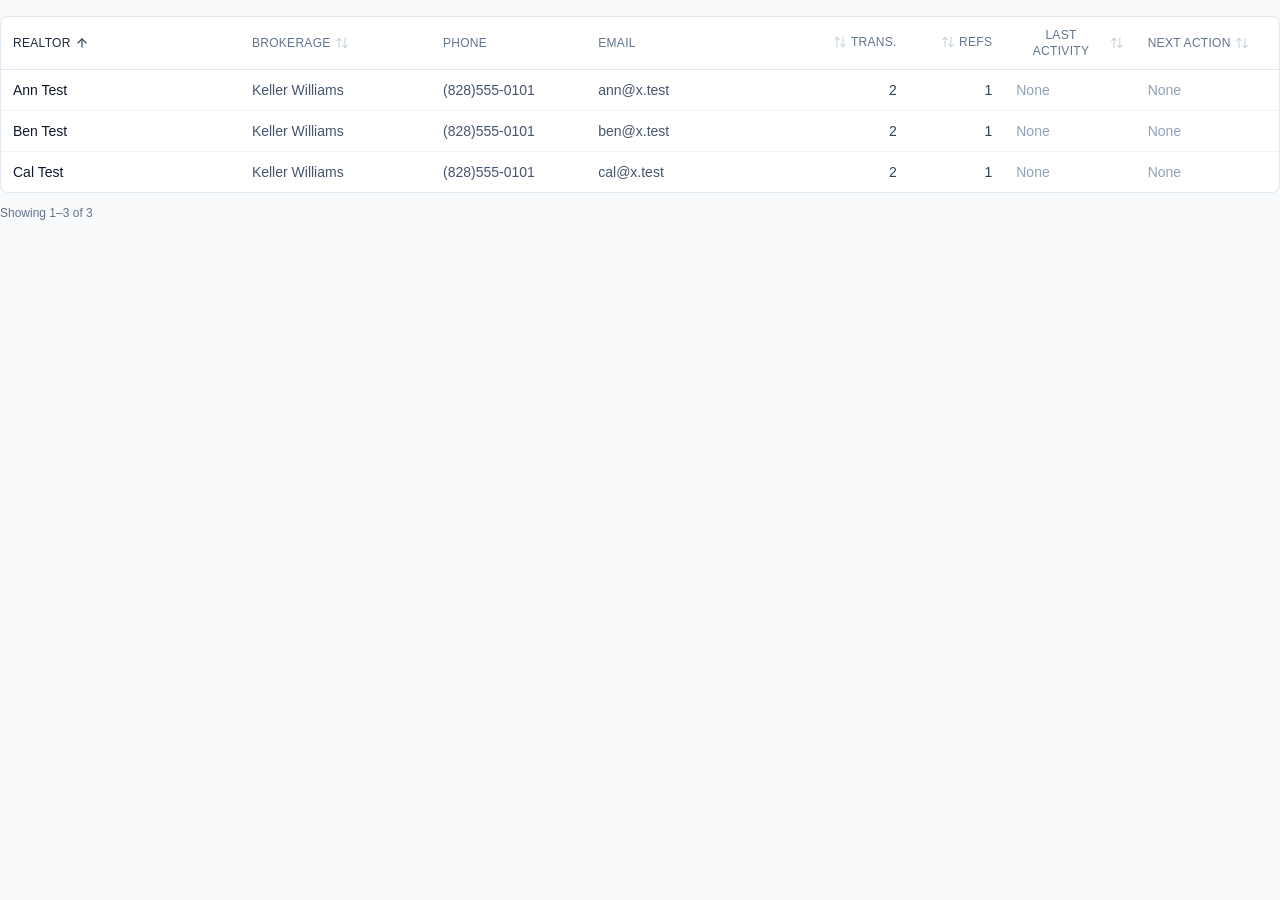
directory rows and drawer › closes with Escape and returns focus to the realtor's row
Click the button "Ann Test". click: (120, 90)
box: [13,80,228,100]
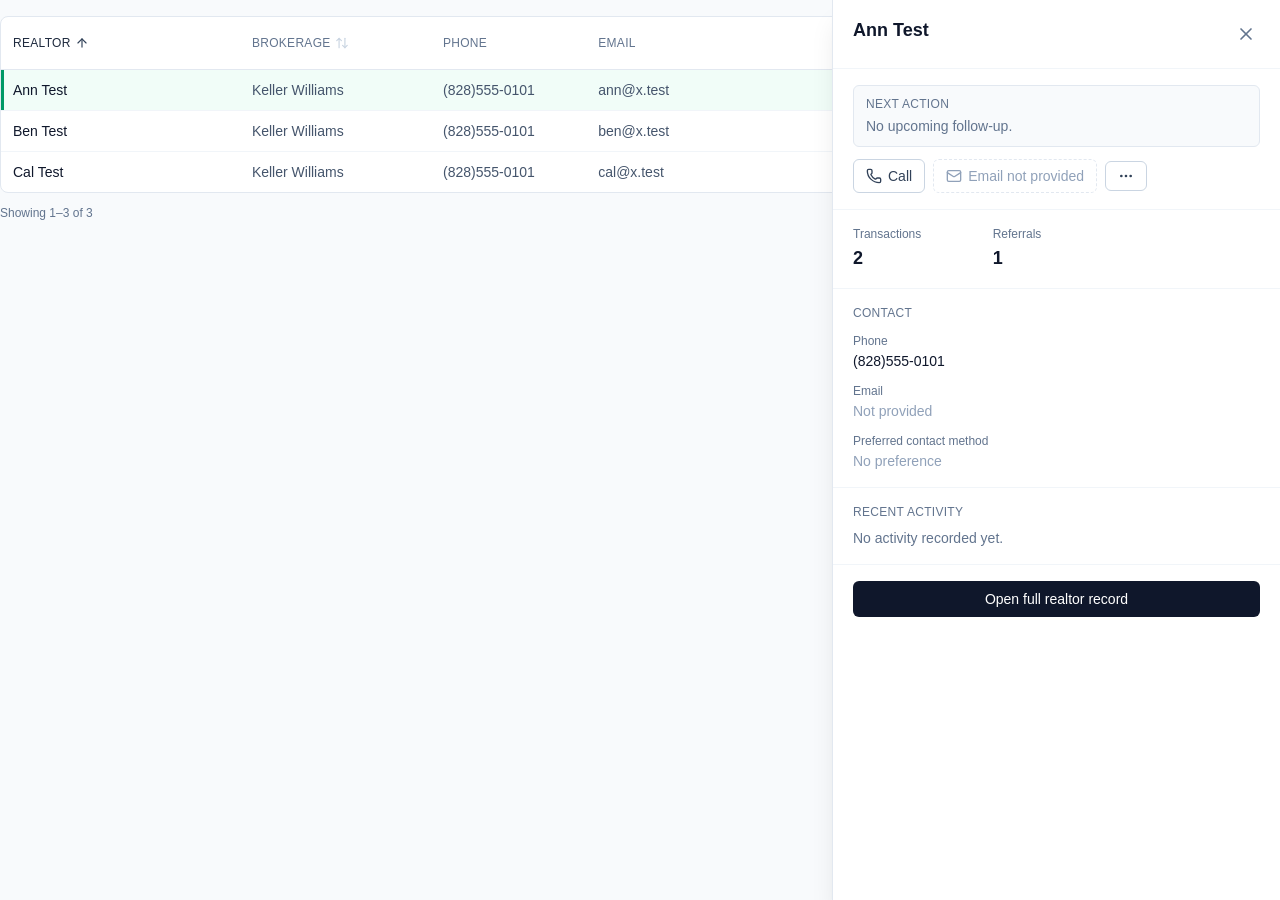
Expected: the dialog is shown, [832,0,1279,899]
Press Escape
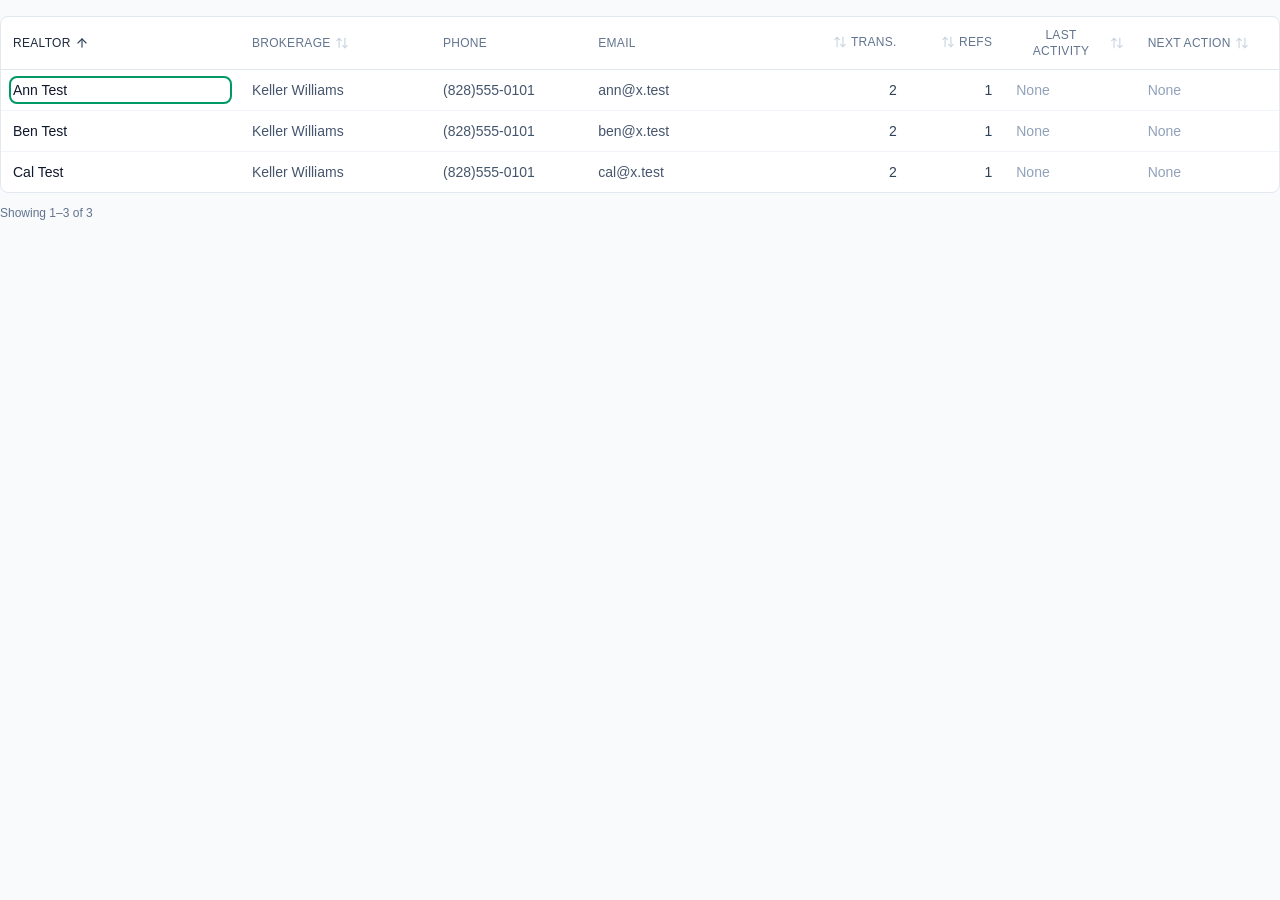
Expected: the dialog is gone
